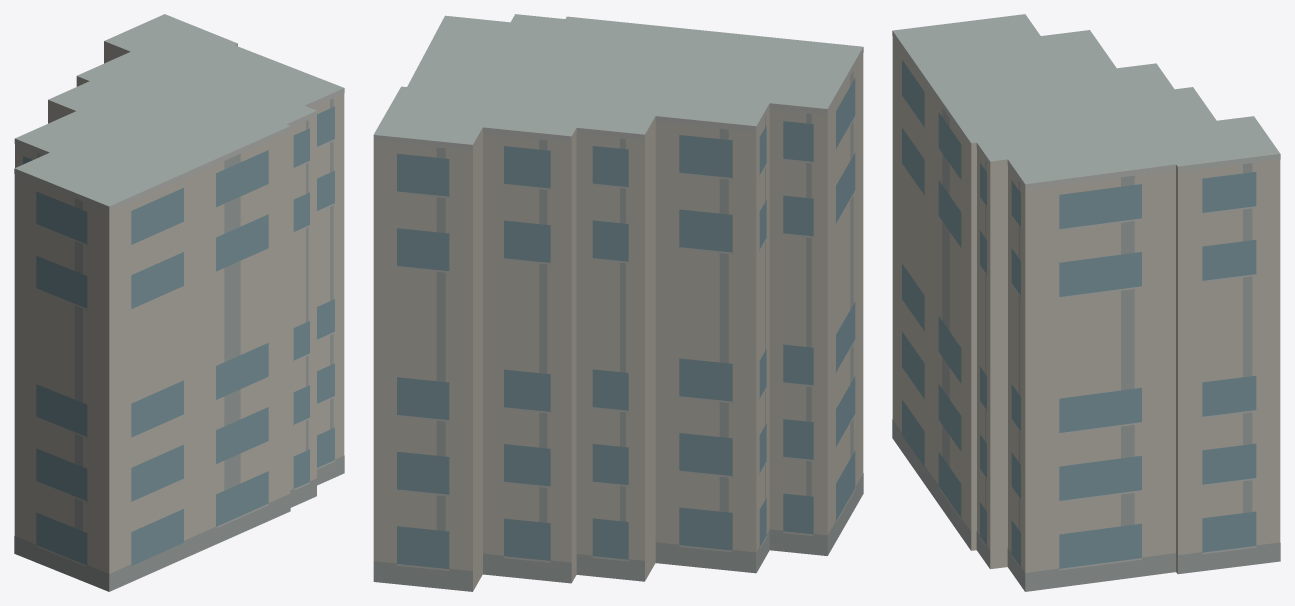
Rendered from survey-upis-32726606.glb.
3 views of the same model, side by side, from view 1: azimuth 30°, elevation 25°; view 2: azimuth 150°, elevation 25°; view 3: azimuth 270°, elevation 25° (orthographic). The views are drawn at different scales.
Visible parts, largest first — view 1: survey-upis-32726606.tmp; view 2: survey-upis-32726606.tmp; view 3: survey-upis-32726606.tmp.
Boxes of the visible parts, x1,y1,x2,y2 form: survey-upis-32726606.tmp: [14, 14, 344, 591]; survey-upis-32726606.tmp: [373, 14, 863, 591]; survey-upis-32726606.tmp: [892, 14, 1280, 591].
Bounding box in the file's own units: 15.42 × 17.2 × 14.85.
